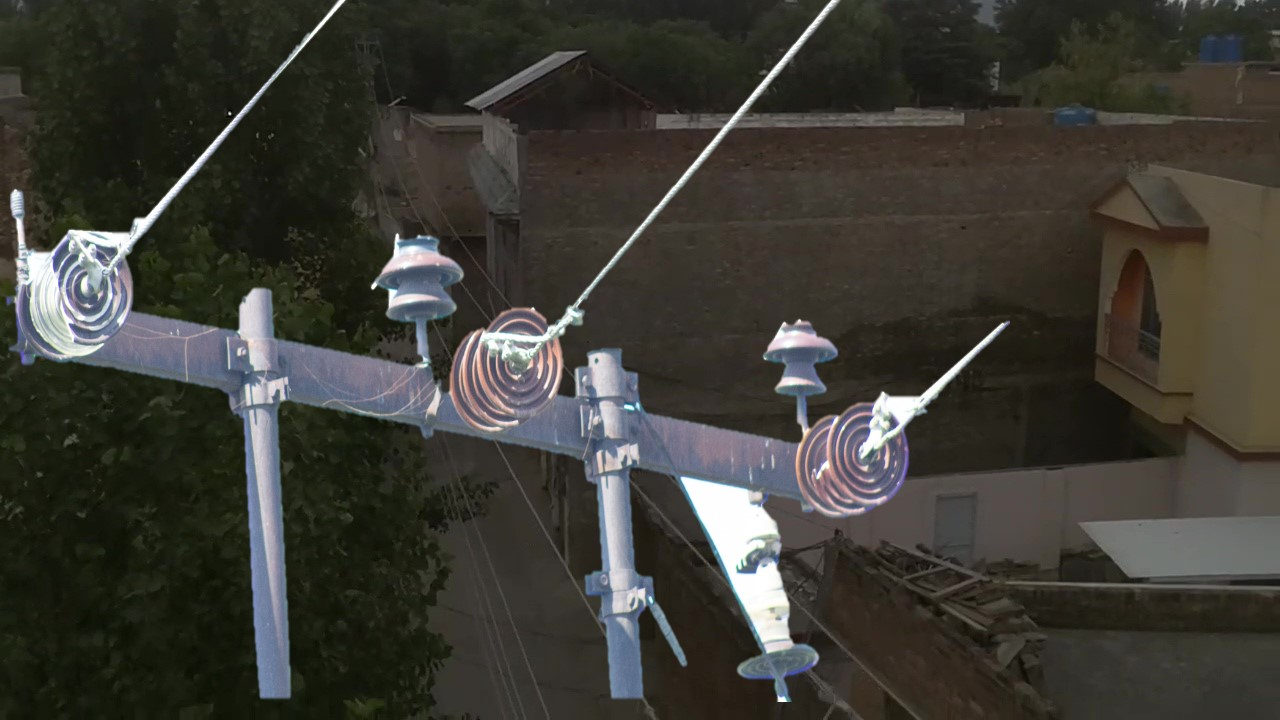defect_disc: (48, 215, 137, 350)
insulator_disc: (470, 298, 570, 417), (822, 394, 915, 508)
